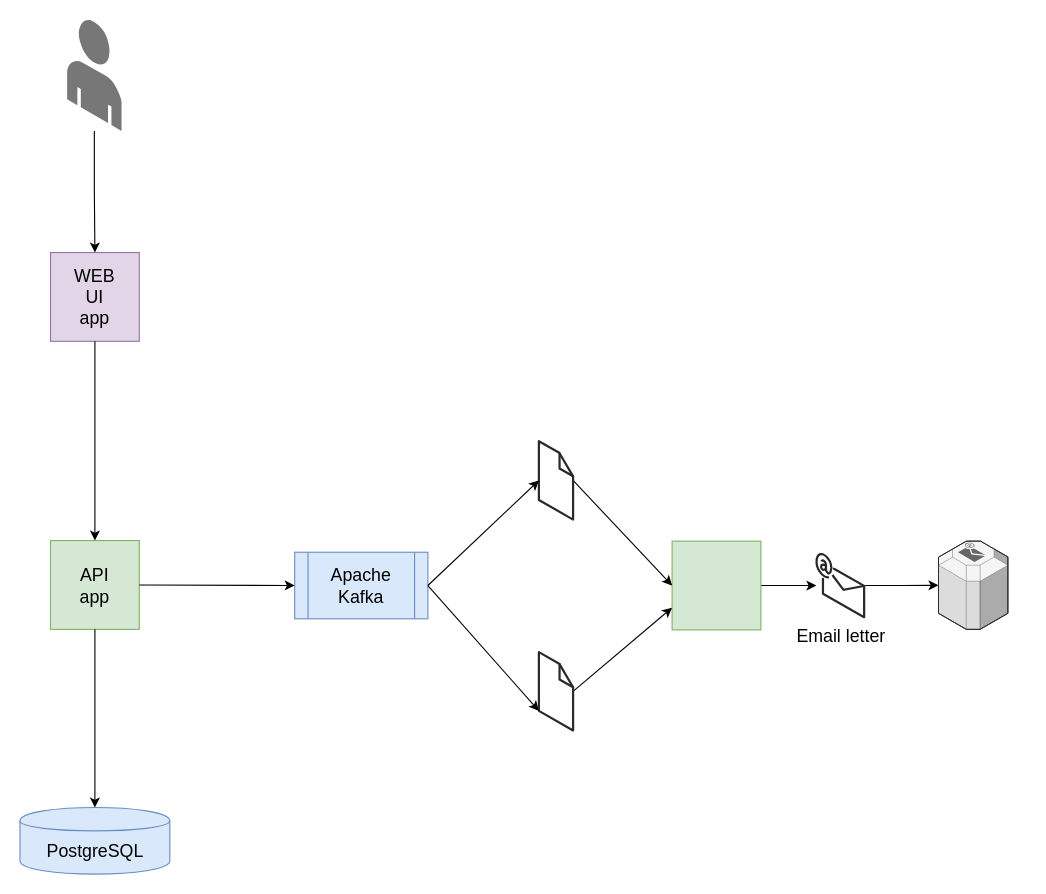
Some shapes in this 1046 by 894 pixel diagram are drawn without their labels. Here are the shapes that lost their labels. From the top down, the centre of each, then its label:
At point 716,585: "EMAIL app".
At point 972,584: "SMTP server".
